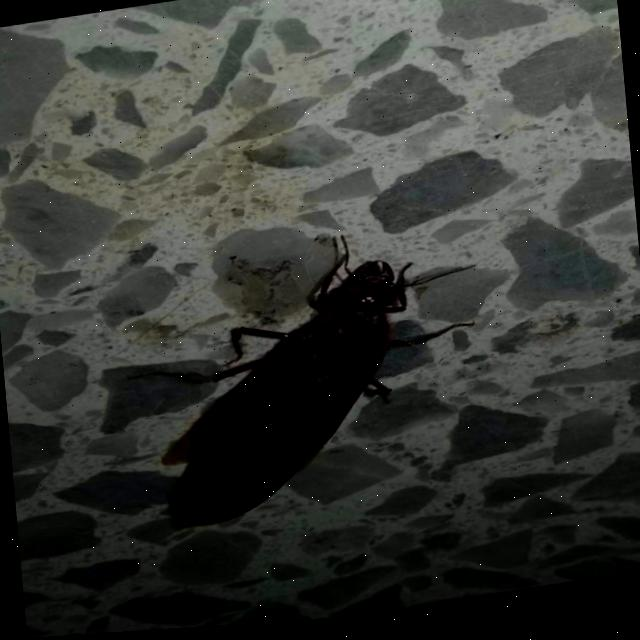Alive-Female-Alate: (117, 221, 495, 539)
